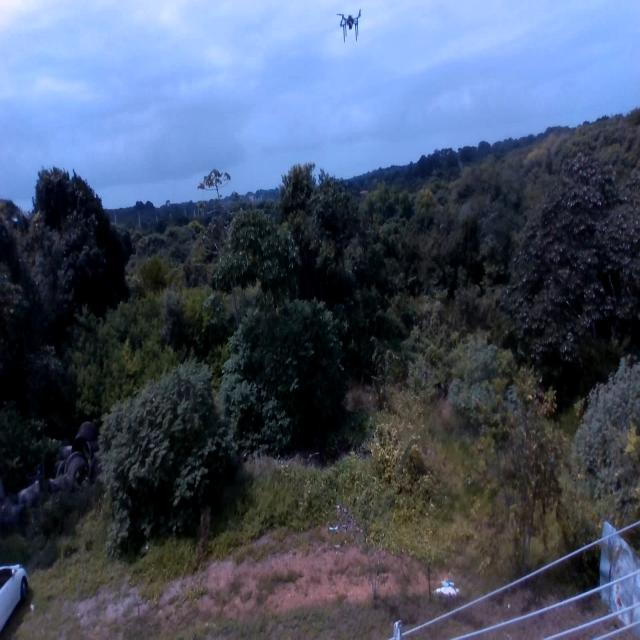-uav-: (332, 6, 368, 48)
